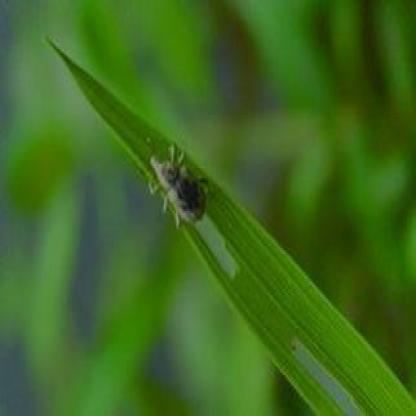rice-bug: (148, 136, 214, 232)
